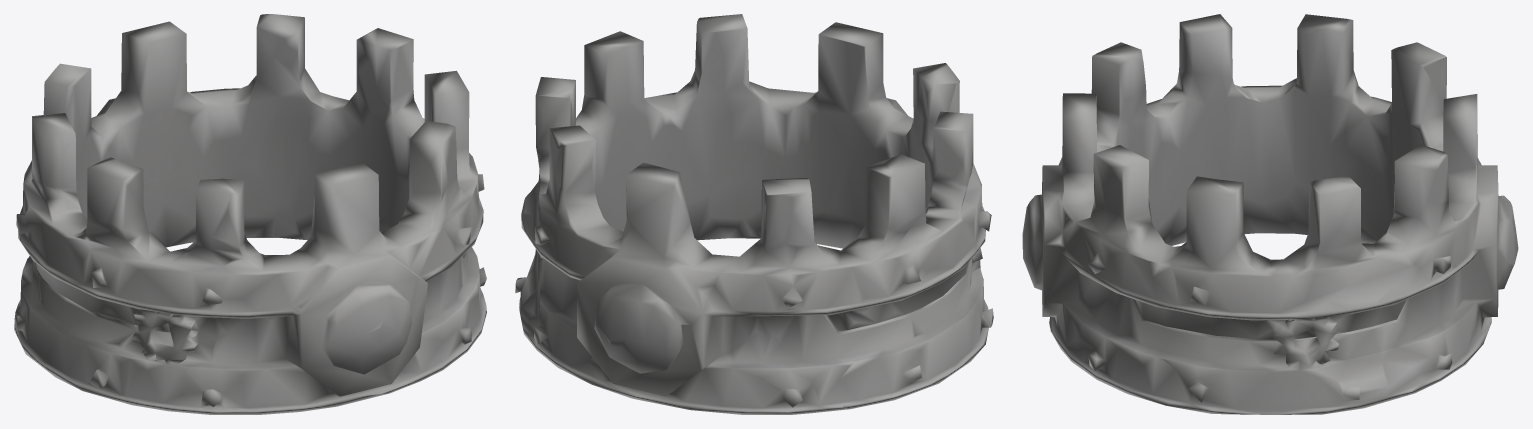
The model's file is Crown_T2.fbx.
3 views of the same model, side by side, from view 1: azimuth 30°, elevation 25°; view 2: azimuth 150°, elevation 25°; view 3: azimuth 270°, elevation 25° (orthographic).
Parts seen in each view (by area): view 1: Crown_T2; view 2: Crown_T2; view 3: Crown_T2.
Part boxes in pixels (left/top/right/bottom): Crown_T2: left=14, top=14, right=486, bottom=414; Crown_T2: left=515, top=14, right=993, bottom=414; Crown_T2: left=1022, top=14, right=1518, bottom=414.
Size of the model in its own units: 95.29 by 47.55 by 100.
1 material, 1 textured.
